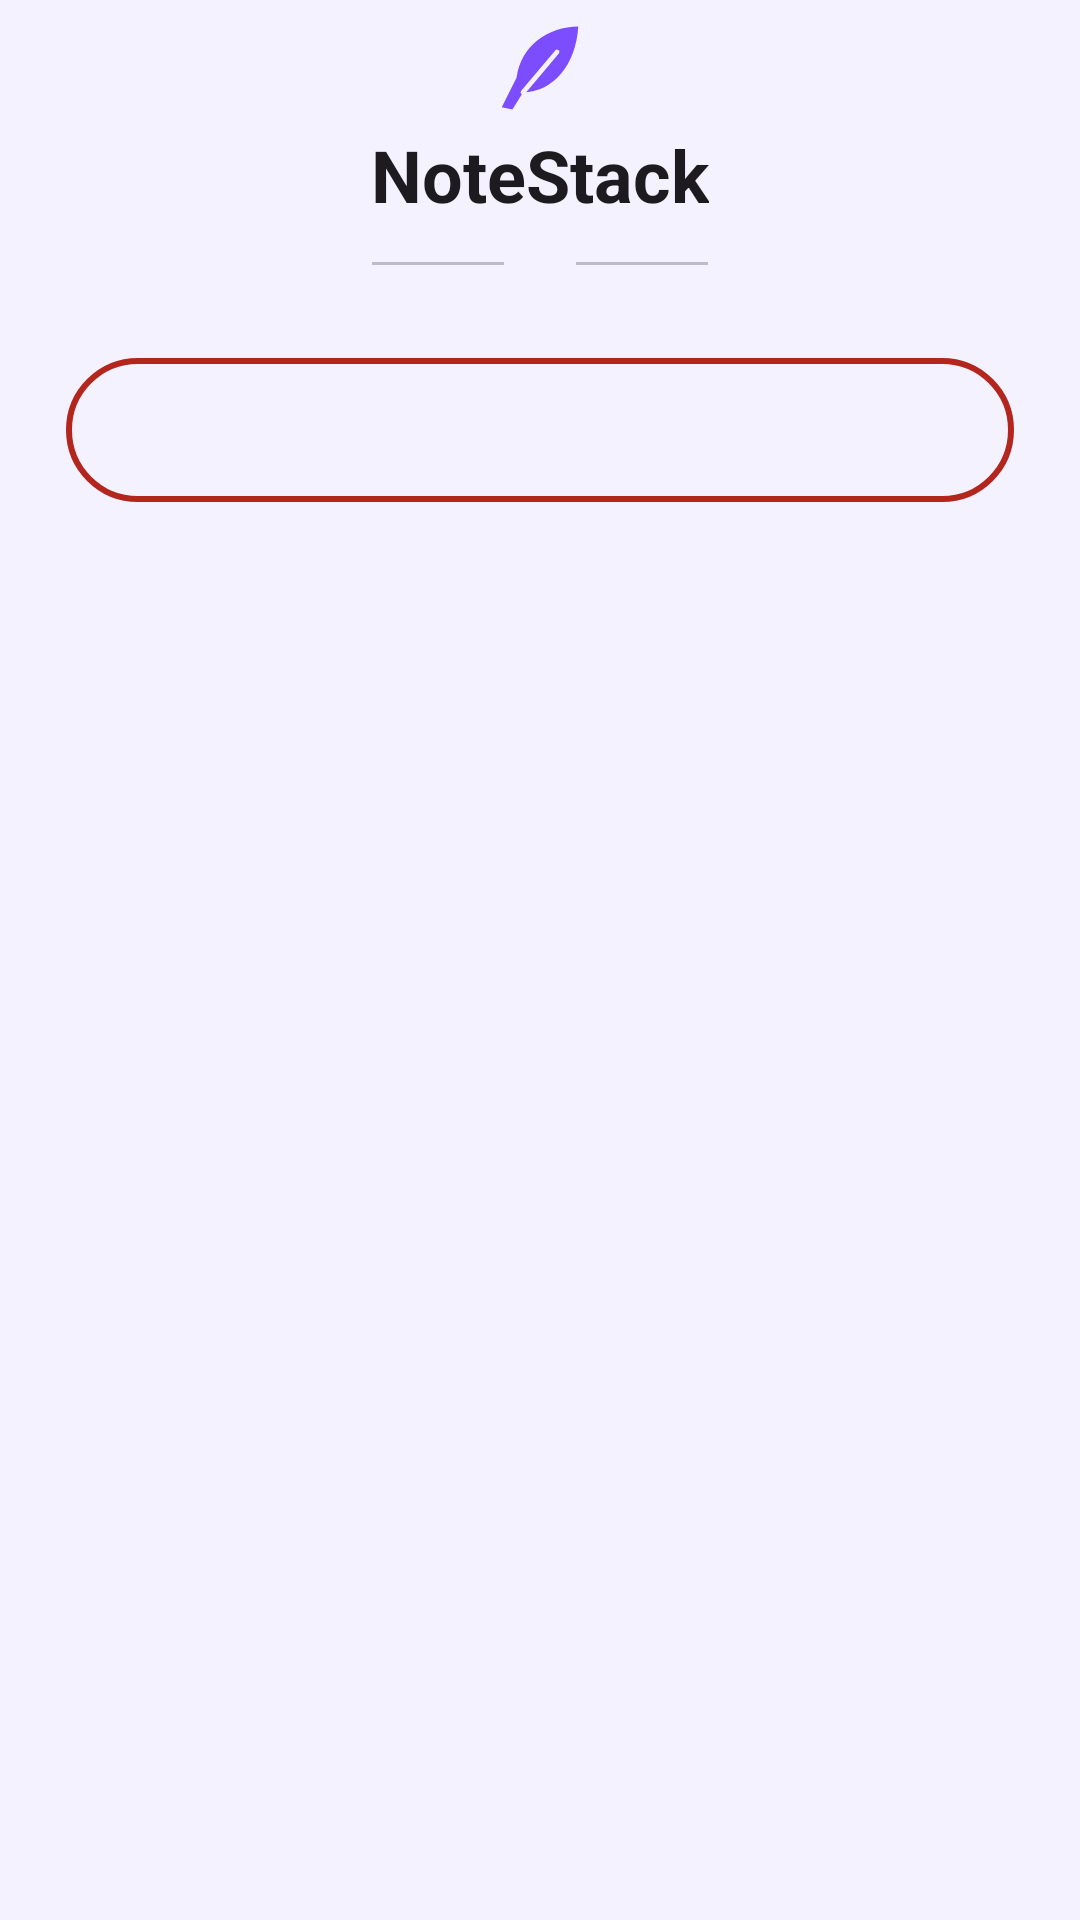

Where to tap for icons on this 1080 × 1920 app screen, as (x=x, y=y):
brand feather: (x=540, y=68)
